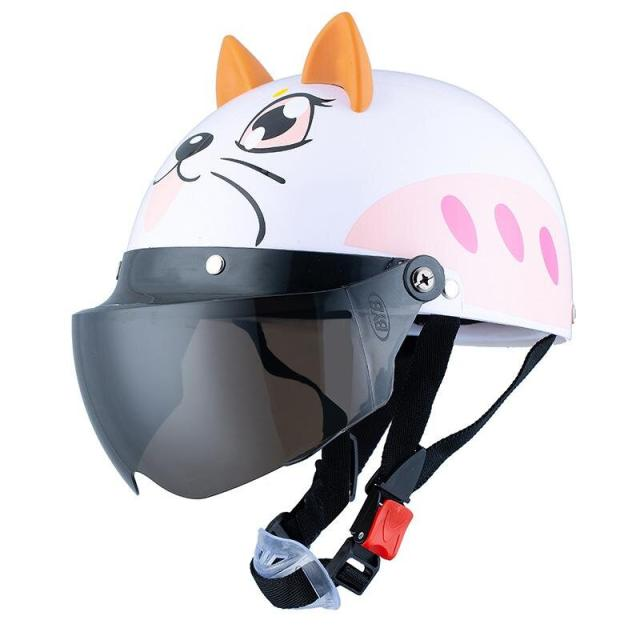Helmet: (68, 12, 577, 504)
